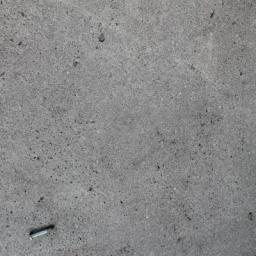FOD: (27, 223, 57, 242)
